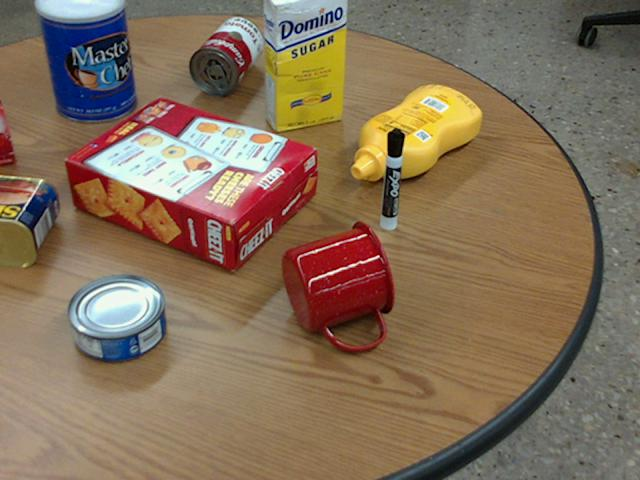cracker_box: (66, 96, 315, 270)
gelatin_box: (0, 97, 15, 163)
large_marker: (380, 128, 404, 229)
master_chef_can: (37, 0, 136, 121)
mug: (281, 221, 395, 349)
mustard_bottle: (351, 85, 480, 180)
potted_meat_can: (0, 175, 57, 265)
sugar_box: (264, 0, 346, 131)
tomato_soup_can: (188, 16, 261, 94)
tuna_fish_can: (66, 273, 163, 360)
